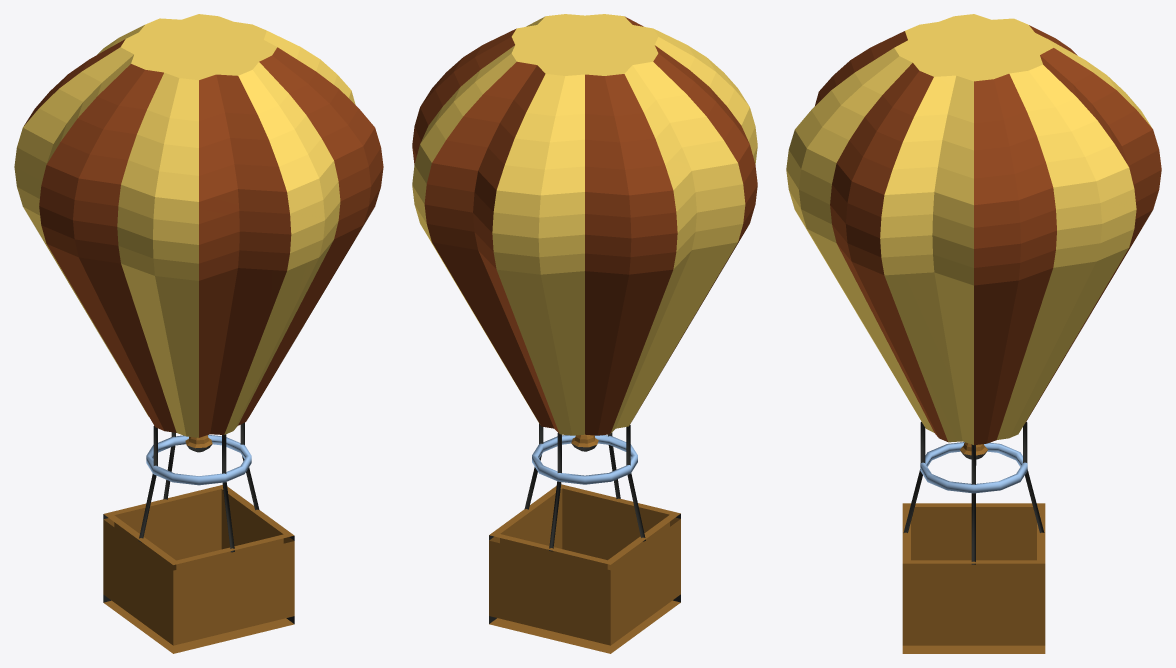
File: воздушный шар (1).fbx
The picture shows the model from 3 angles, left to right: view 1: azimuth 30°, elevation 25°; view 2: azimuth 150°, elevation 25°; view 3: azimuth 270°, elevation 25°; orthographic projection.
Parts seen in each view (by area): view 1: Circle.002; view 2: Circle.002; view 3: Circle.002.
Boxes of the visible parts, <box> form: Circle.002: <box>14,14,383,653</box>; Circle.002: <box>412,14,757,653</box>; Circle.002: <box>786,14,1161,653</box>.
Bounding box in the file's own units: 527 × 892 × 527.
